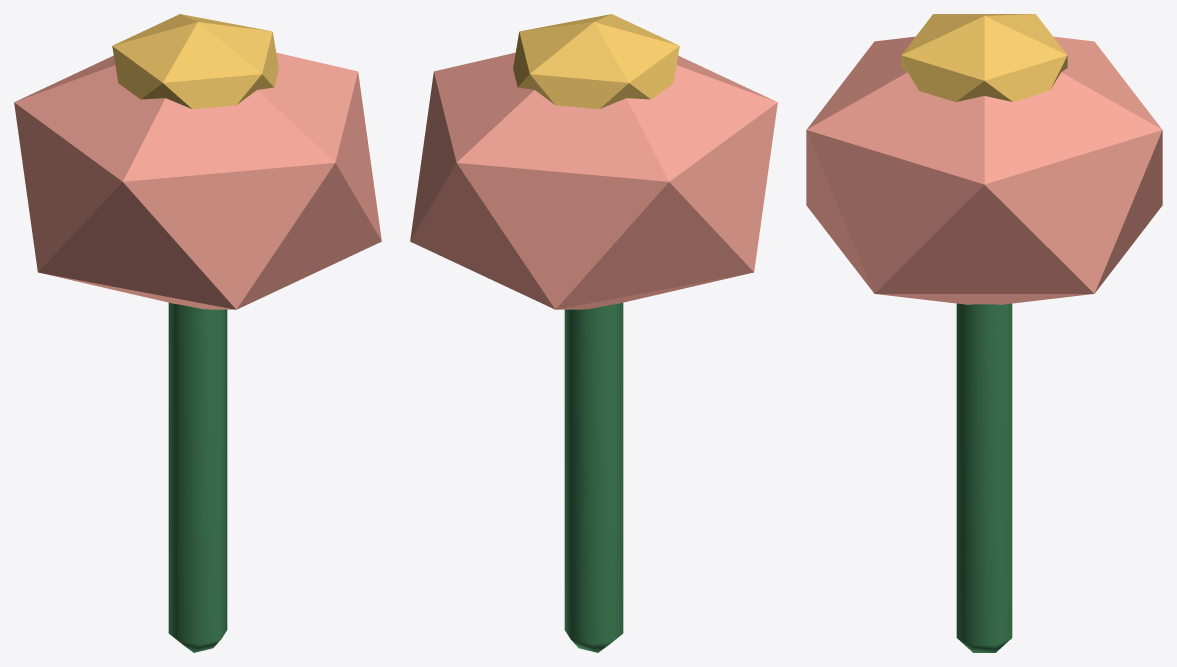
Rendered from flower.glb.
The picture shows the model from 3 angles, left to right: view 1: azimuth 30°, elevation 25°; view 2: azimuth 150°, elevation 25°; view 3: azimuth 270°, elevation 25°; orthographic projection.
Parts seen in each view (by area): view 1: Bloom, Stem, Center; view 2: Bloom, Stem, Center; view 3: Bloom, Stem, Center.
Boxes of the visible parts, box(x1,y1,x2,y2) form: Bloom: box(14, 52, 381, 309); Stem: box(168, 302, 227, 652); Center: box(112, 14, 278, 109); Bloom: box(410, 52, 777, 309); Stem: box(564, 302, 623, 652); Center: box(513, 14, 679, 109); Bloom: box(806, 36, 1162, 304); Stem: box(956, 303, 1012, 652); Center: box(901, 14, 1067, 101).
Bounding box in the file's own units: 0.2683 × 0.5 × 0.2552.
